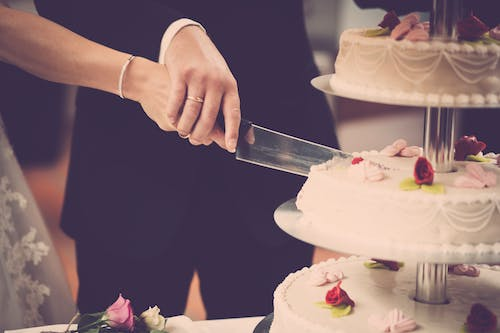knife: (216, 108, 355, 179)
